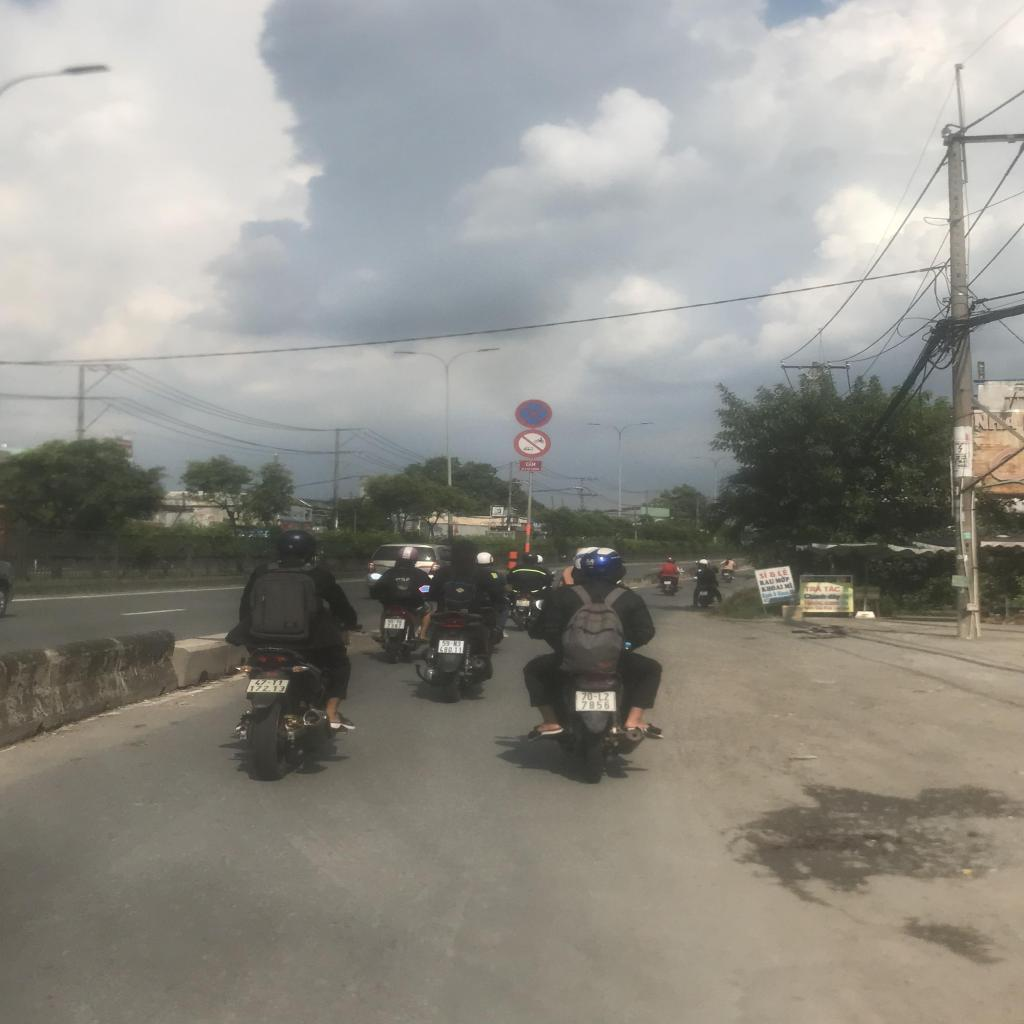cam_dung_xe_va_do_xe: (516, 398, 552, 428)
cam_xe_2_banh_va_xe_3_banh_co_dong_co: (513, 432, 552, 456)
